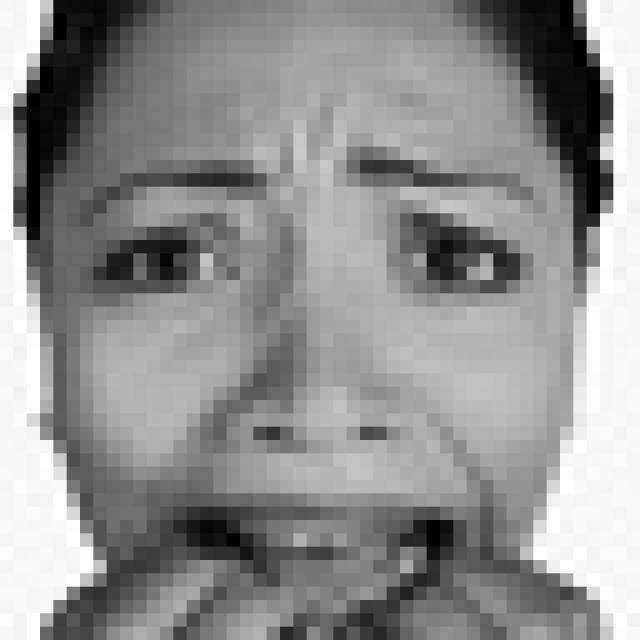fear: (79, 106, 552, 601)
